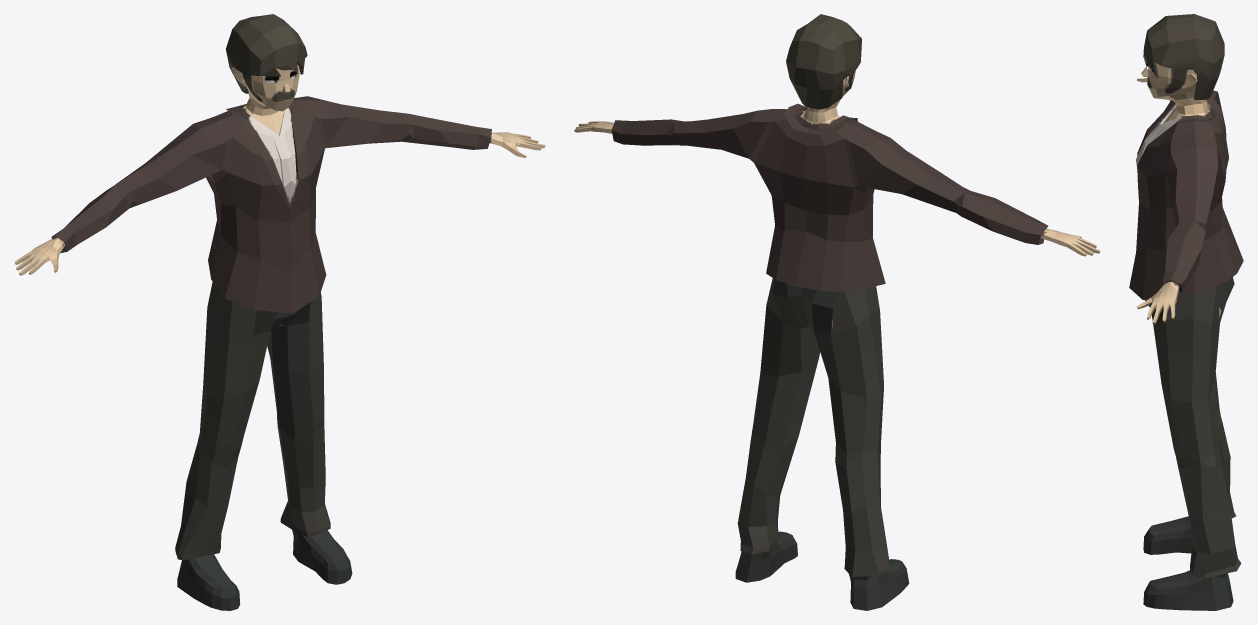
The model's file is PMJ_Final.fbx.
The picture shows the model from 3 angles, left to right: view 1: azimuth 30°, elevation 25°; view 2: azimuth 150°, elevation 25°; view 3: azimuth 270°, elevation 25°; orthographic projection.
Visible parts, largest first — view 1: node_id92, node_id89, node_id95, node_id78, node_id85; view 2: node_id92, node_id89, node_id85, node_id95, node_id78; view 3: node_id92, node_id89, node_id85, node_id95, node_id78.
Part boxes in pixels (x1,y1,x2,y2): node_id92: [51, 96, 491, 313]; node_id89: [175, 282, 330, 559]; node_id95: [177, 530, 352, 610]; node_id78: [14, 65, 545, 275]; node_id85: [226, 14, 307, 93]; node_id92: [611, 103, 1048, 291]; node_id89: [737, 278, 890, 576]; node_id85: [786, 14, 861, 109]; node_id95: [735, 531, 909, 610]; node_id78: [574, 70, 1100, 327]; node_id92: [1129, 90, 1243, 299]; node_id89: [1145, 277, 1241, 578]; node_id85: [1143, 14, 1224, 99]; node_id95: [1143, 516, 1233, 610]; node_id78: [1137, 63, 1220, 324].
Bounding box in the file's own units: 0.3436 × 0.3512 × 0.0652.
Materials: 5 (5 with a texture image).
